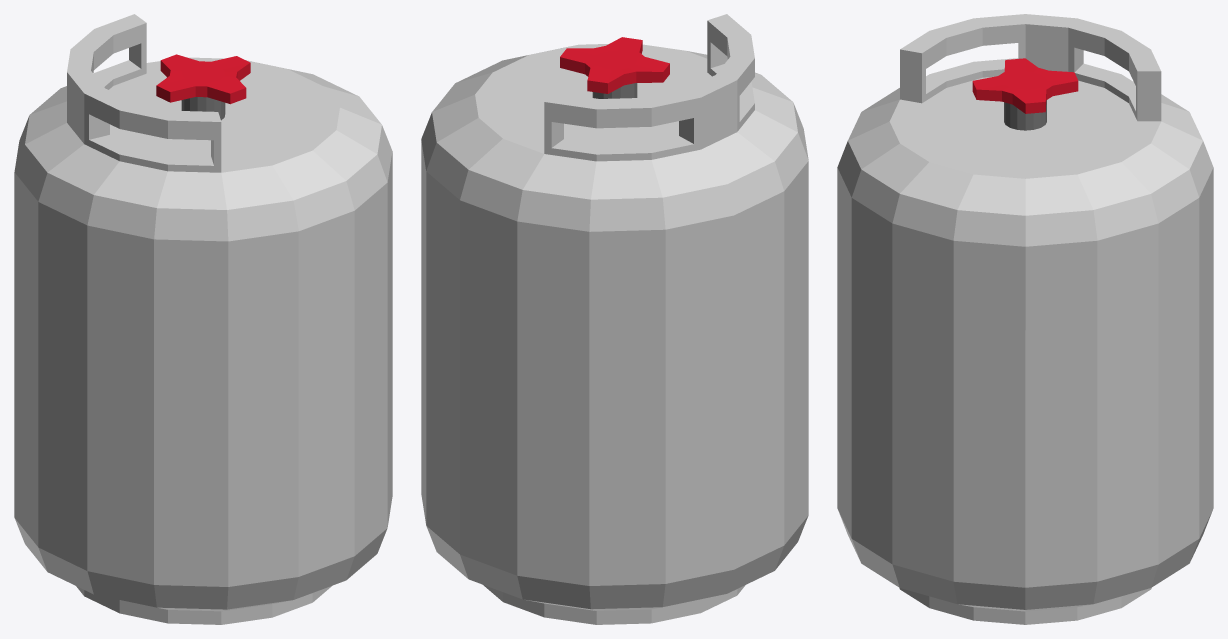
The model's file is propanetank.fbx.
The picture shows the model from 3 angles, left to right: view 1: azimuth 30°, elevation 25°; view 2: azimuth 150°, elevation 25°; view 3: azimuth 270°, elevation 25°; orthographic projection. The views are drawn at different scales.
Visible parts, largest first — view 1: Cylinder; view 2: Cylinder; view 3: Cylinder.
Part boxes in pixels (bbox=[...]): Cylinder: bbox=[14, 14, 392, 624]; Cylinder: bbox=[421, 14, 808, 624]; Cylinder: bbox=[837, 14, 1213, 624].
Bounding box in the file's own units: 200 × 291 × 200.
